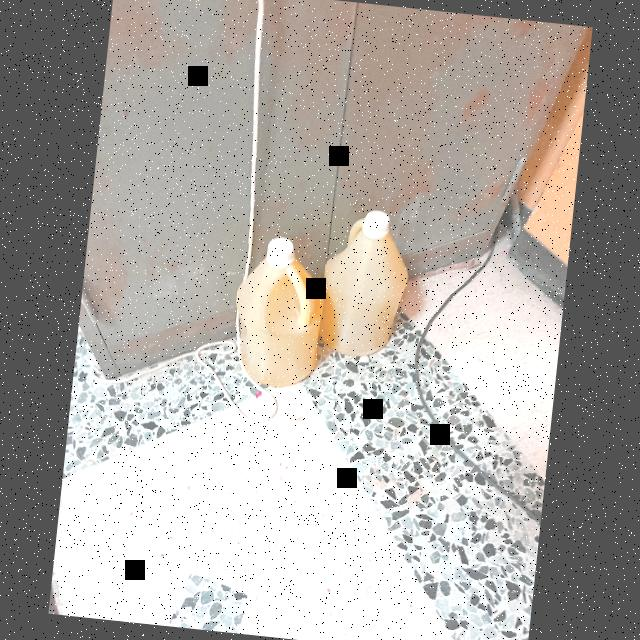chemical_plastic_gallon: (310, 200, 419, 372), (222, 232, 332, 386)
